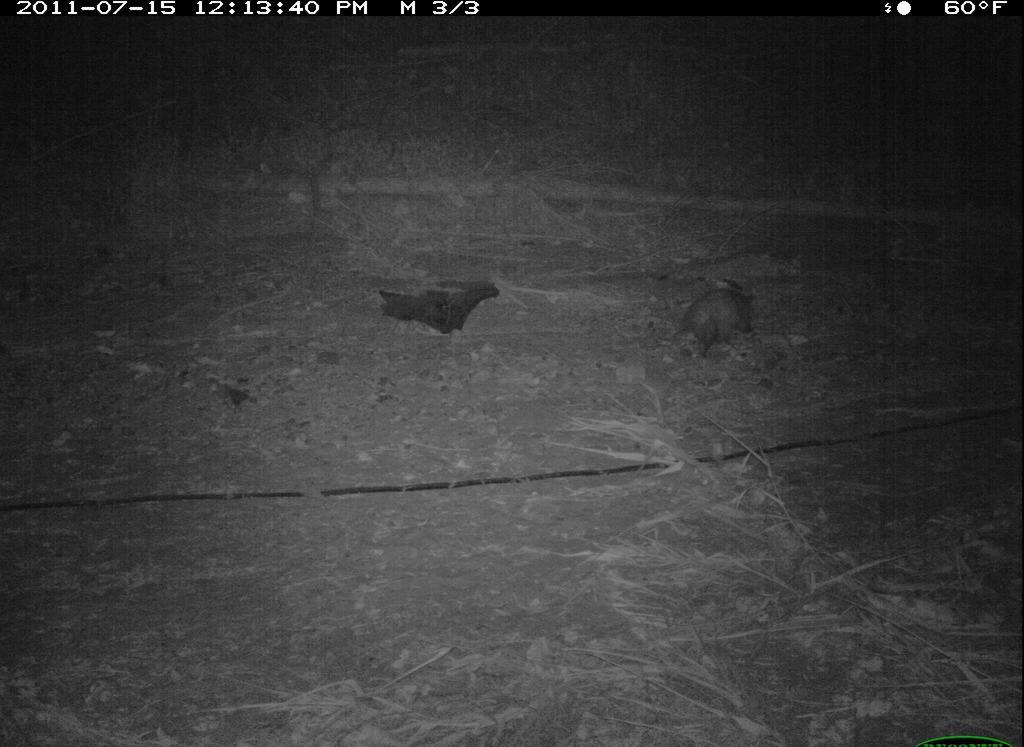opossum: (655, 276, 770, 365)
